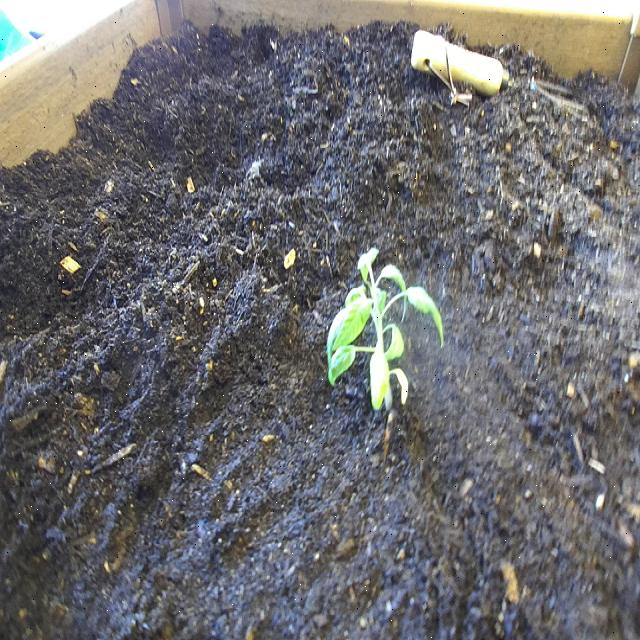Healthy: (318, 241, 450, 429)
